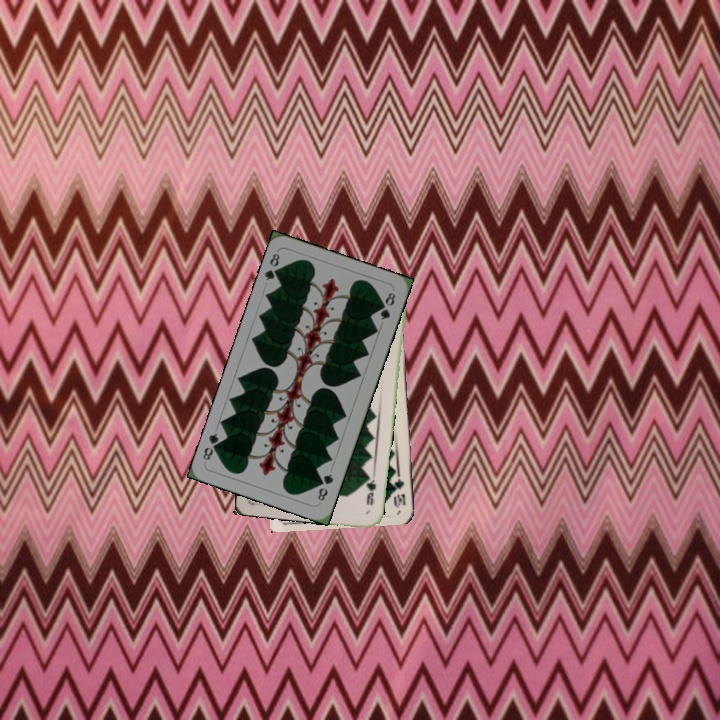G10: (389, 469, 408, 510)
G8: (261, 249, 285, 283), (313, 470, 336, 504)
G9: (362, 472, 378, 508)
